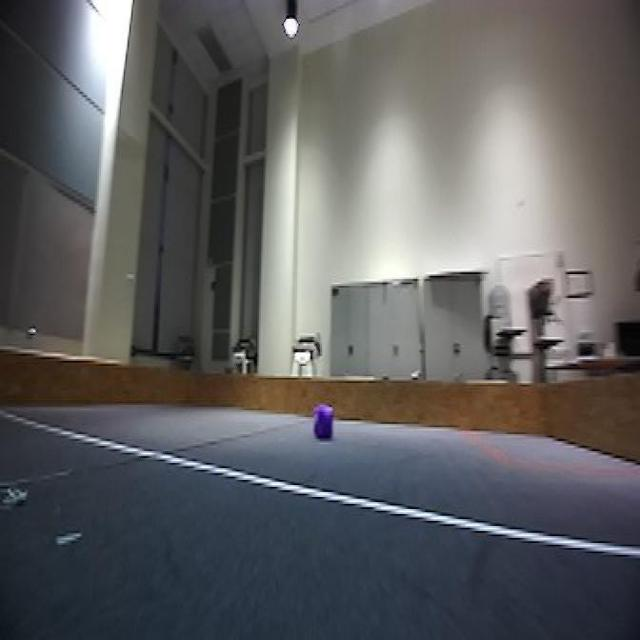frc_cube: (313, 400, 337, 441)
